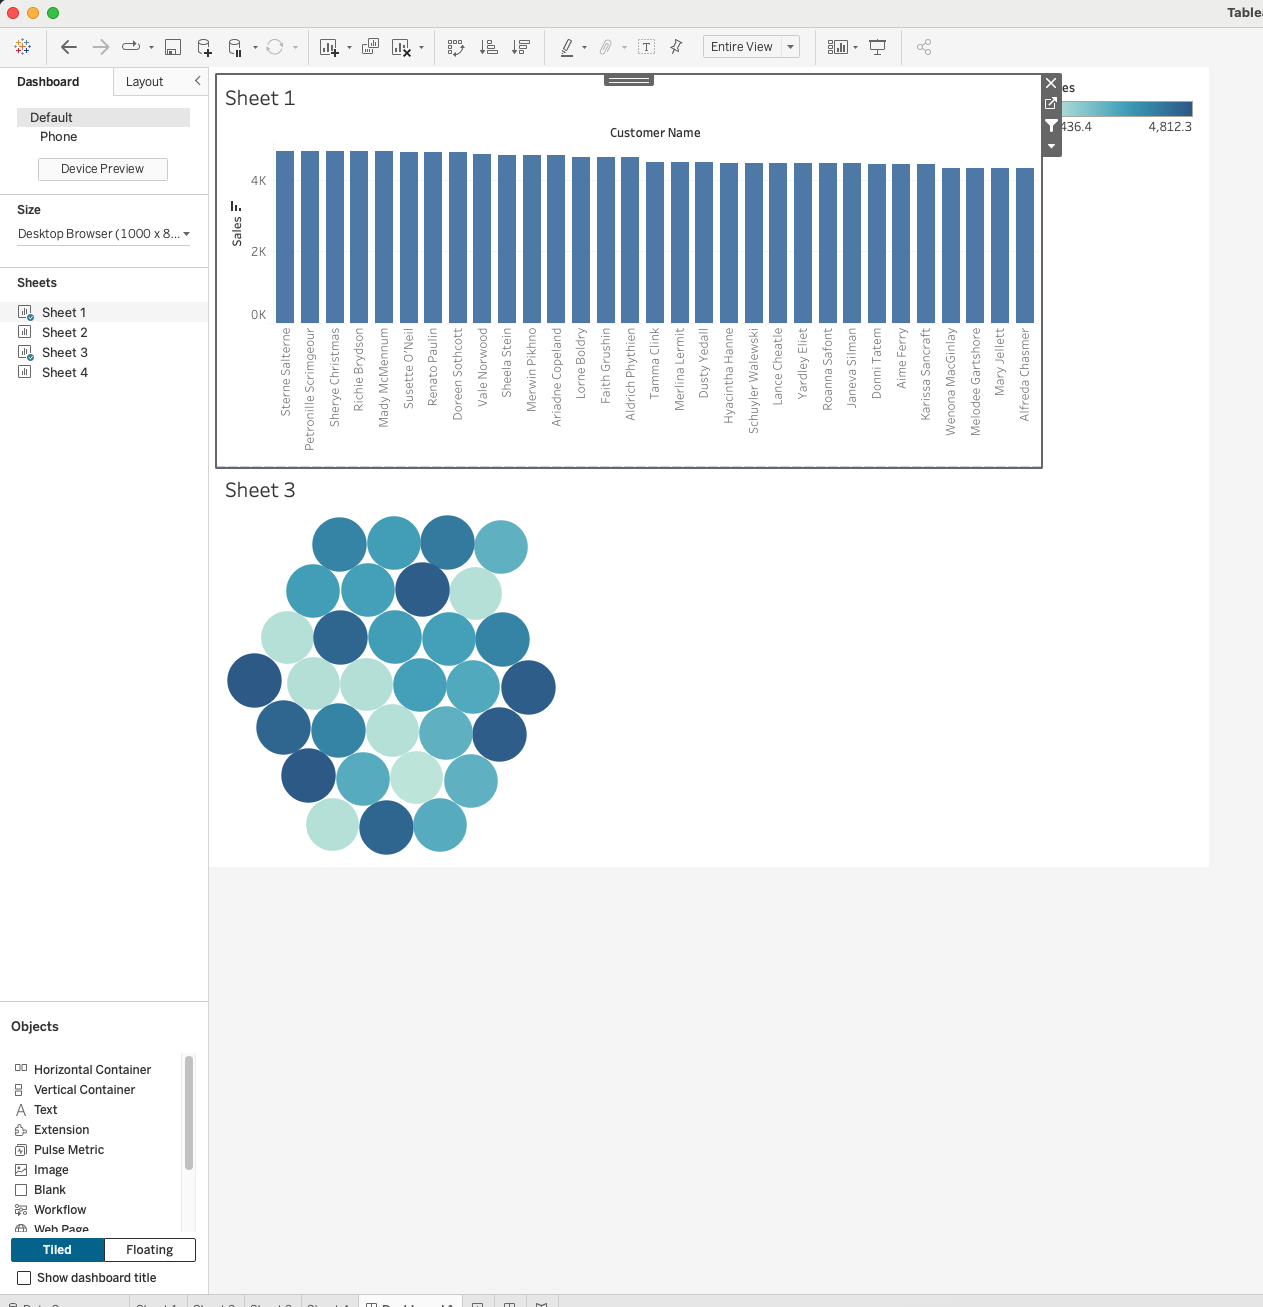

What the dashboard file says about the page in this screenshot:
{"tool":"tableau","page":{"name":"Dashboard 1","canvas":[1000,800],"ordinal":0},"visuals":[{"type":"worksheet","title":"Sheet 1","mark":"Automatic","rows":["Sales"],"cols":["Customer Name"],"box":[8,8,824,392]},{"type":"legend","title":"Sheet 3","param":"[federated.12fgt4z05zfiit18cowtm0hukaxl].[sum:Sales:qk]","box":[832,8,160,65]},{"type":"worksheet","title":"Sheet 3","mark":"Circle","box":[8,400,824,392]}]}

Visuals, with their boxes on the page's 1000x800 design canvas (x1, y1, x2, y2). These are canvas units, not pixel positions in the 1263x1307 screenshot, which may show the page scaled, cropped or inside an application window:
"Sheet 1" worksheet: box=[8, 8, 832, 400]
"Sheet 3" legend: box=[832, 8, 992, 73]
"Sheet 3" worksheet (Circle marks): box=[8, 400, 832, 792]
